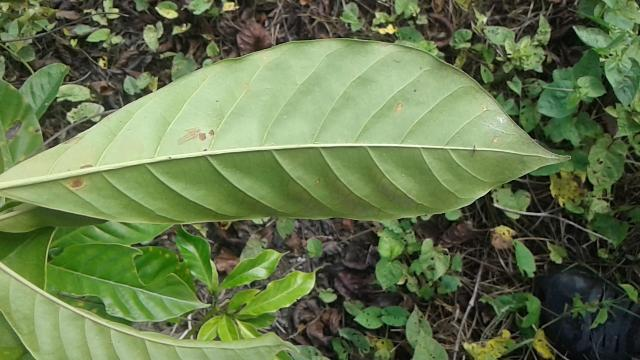rust_level_1: (0, 39, 566, 222)
